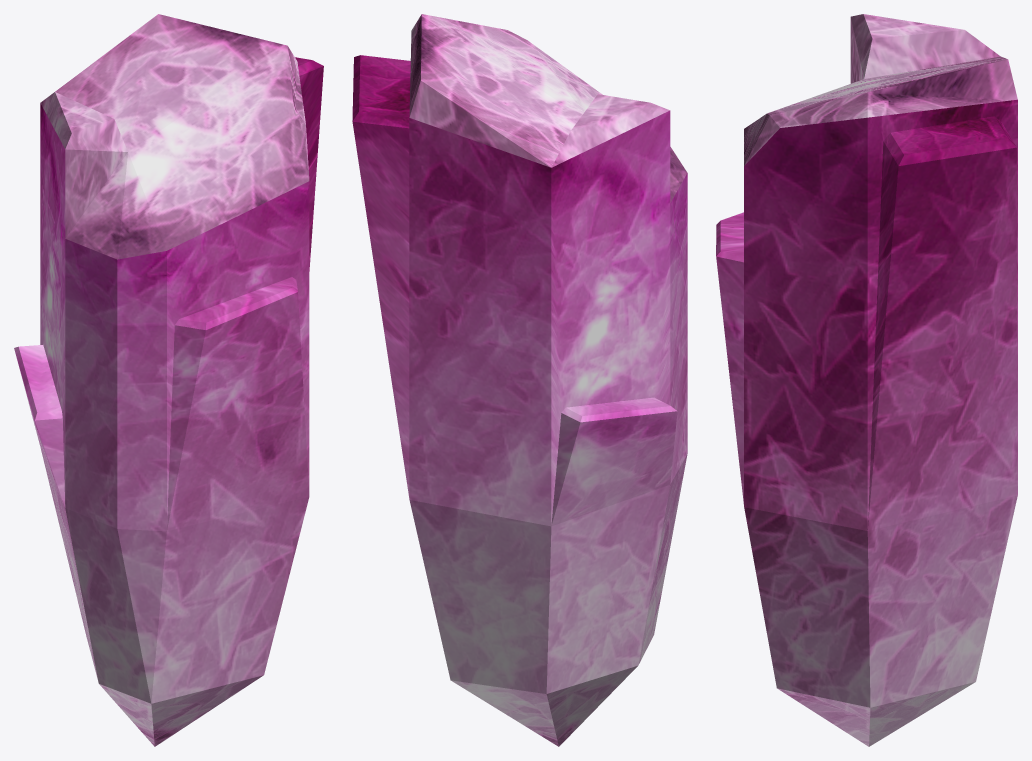
The model's file is MD_TR_Big_Crystal.fbx.
3 renders of one model, left to right at view 1: azimuth 30°, elevation 25°; view 2: azimuth 150°, elevation 25°; view 3: azimuth 270°, elevation 25°, orthographic. The views are drawn at different scales.
Parts seen in each view (by area): view 1: BigCrystal1; view 2: BigCrystal1; view 3: BigCrystal1.
Boxes of the visible parts, left/top/right/bottom form: BigCrystal1: left=14, top=14, right=323, bottom=746; BigCrystal1: left=352, top=14, right=687, bottom=746; BigCrystal1: left=716, top=14, right=1017, bottom=746.
Bounding box in the file's own units: 0.5684 × 1.21 × 0.4586.
